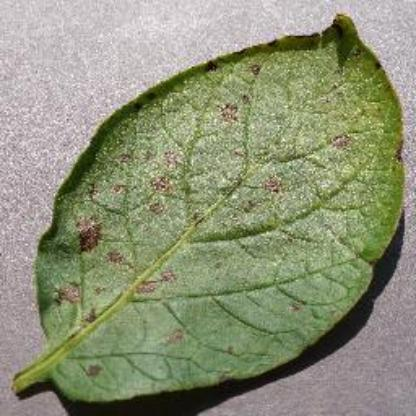Early-Blight: (13, 12, 407, 410)
